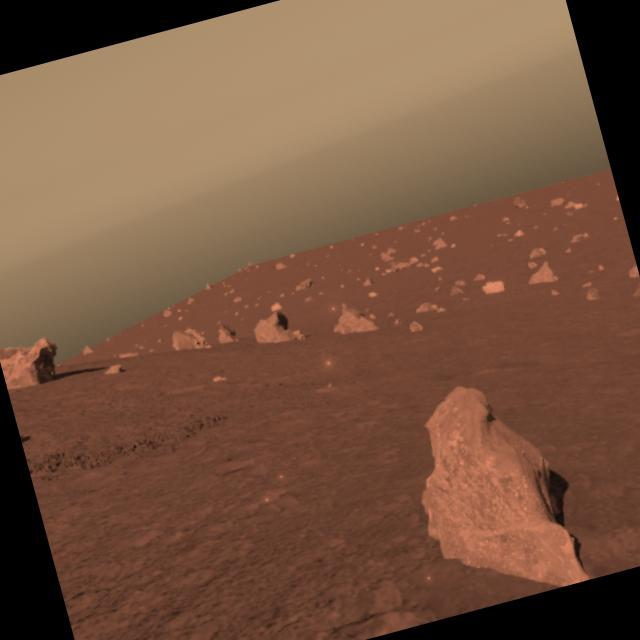rock: (387, 360, 596, 618), (0, 328, 67, 395)
